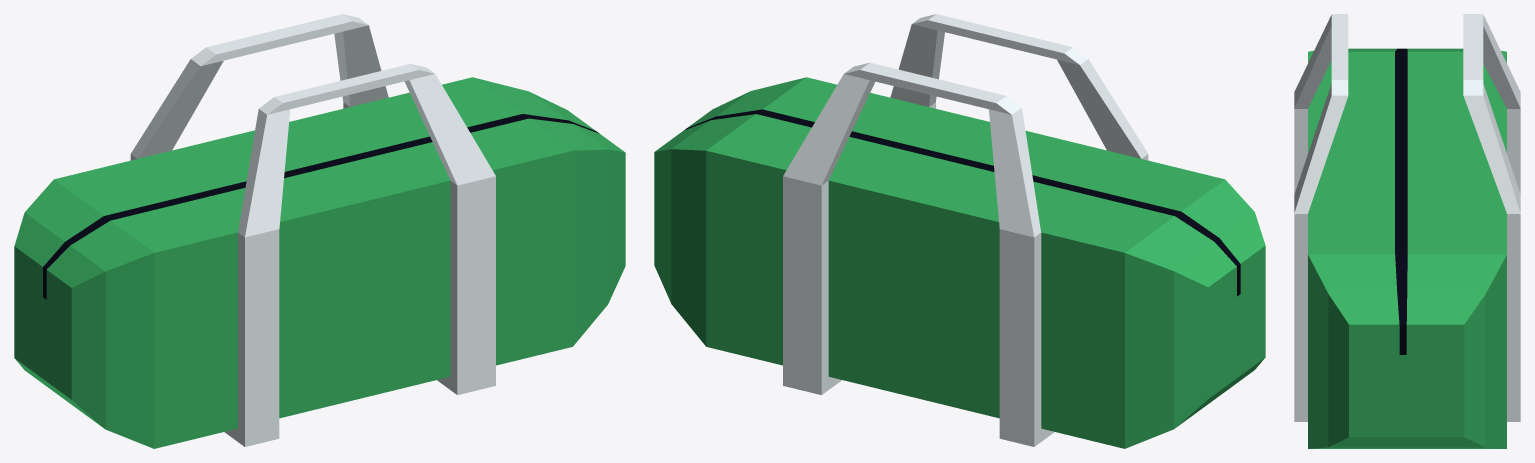
File: Theftable_Dufflebag_Green.fbx
3 views of the same model, side by side, from view 1: azimuth 30°, elevation 25°; view 2: azimuth 150°, elevation 25°; view 3: azimuth 270°, elevation 25° (orthographic).
Parts seen in each view (by area): view 1: Cube.227; view 2: Cube.227; view 3: Cube.227.
Boxes of the visible parts, left/top/right/bottom form: Cube.227: left=14, top=14, right=625, bottom=448; Cube.227: left=654, top=14, right=1265, bottom=448; Cube.227: left=1294, top=14, right=1520, bottom=448.
Size of the model in its own units: 75.24 by 41.08 by 26.89.
